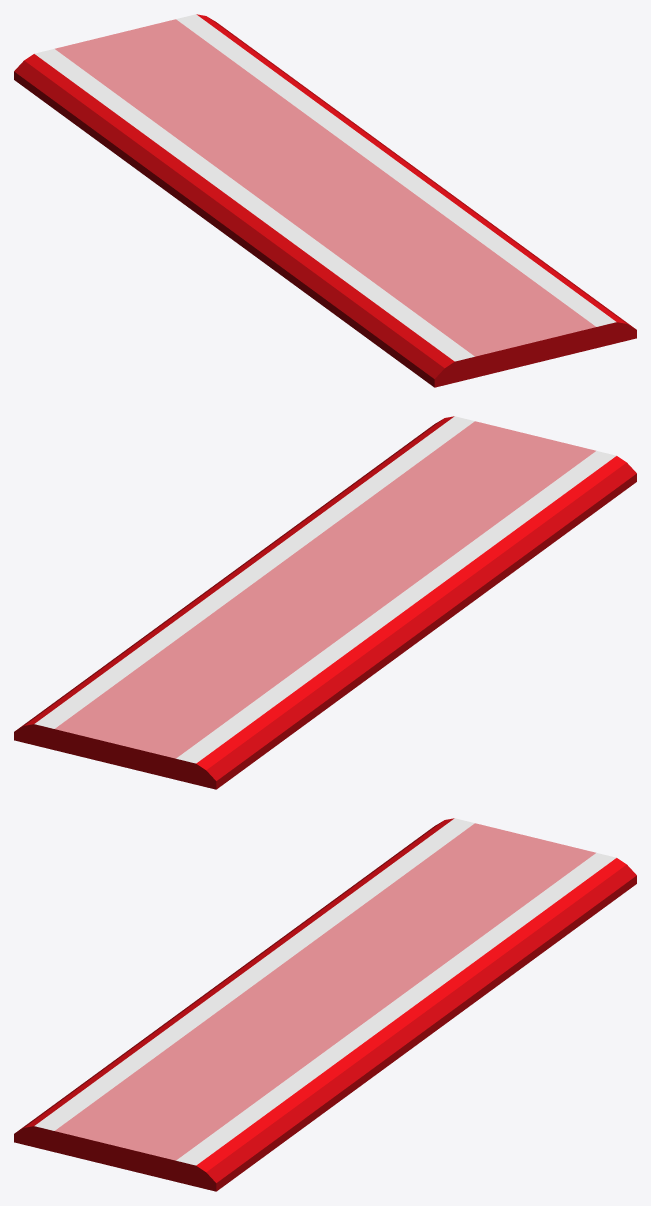
3 views of the same model, one above another, from view 1: azimuth 30°, elevation 25°; view 2: azimuth 150°, elevation 25°; view 3: azimuth 330°, elevation 25° (orthographic).
Visible parts, largest first — view 1: Straight3X; view 2: Straight3X; view 3: Straight3X.
Part boxes in pixels (left/top/right/bottom): Straight3X: left=14, top=14, right=636, bottom=387; Straight3X: left=14, top=416, right=636, bottom=789; Straight3X: left=14, top=818, right=636, bottom=1191.
Bounding box in the file's own units: 10 × 1 × 36.
